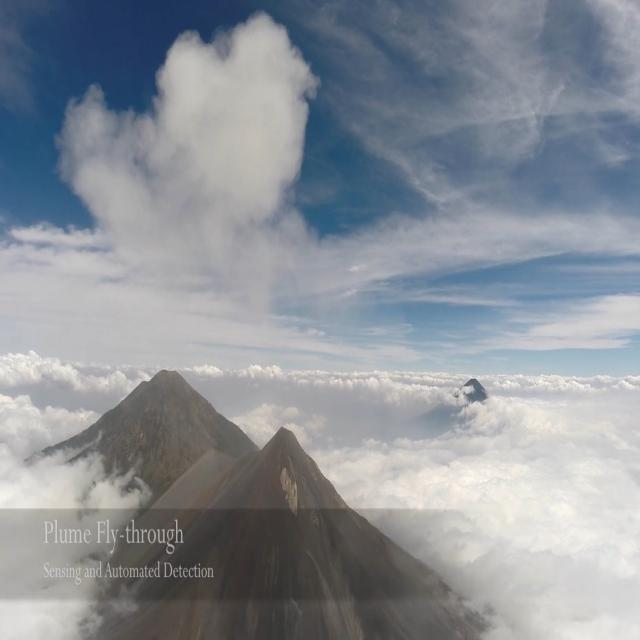Summit: (229, 422, 345, 518)
